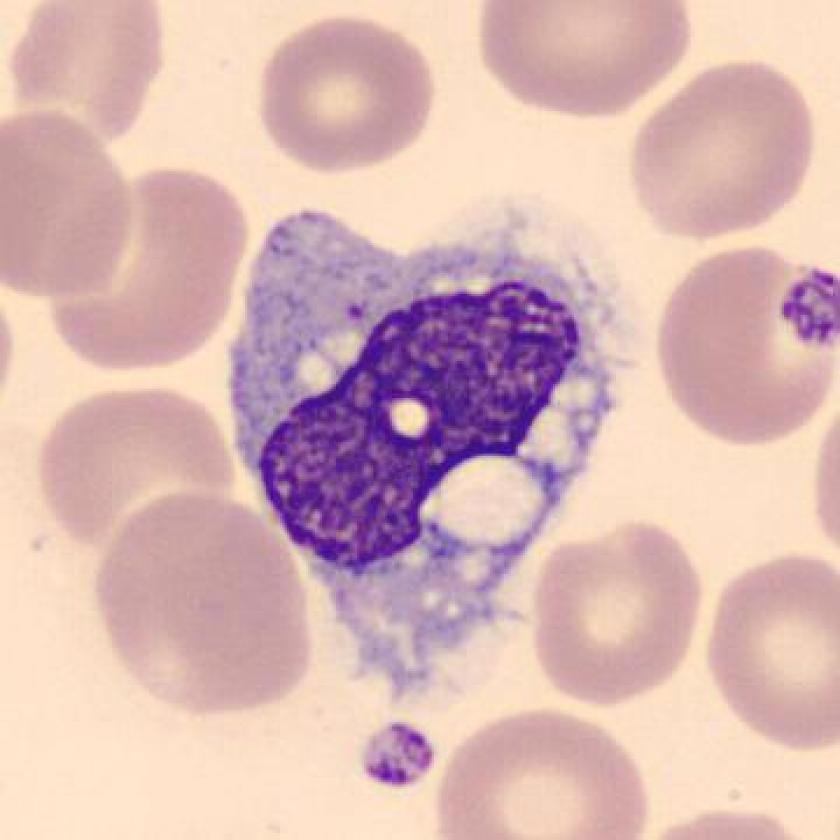monocyte: (202, 182, 661, 714)
